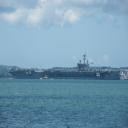Portanaves: (9, 51, 123, 81)
